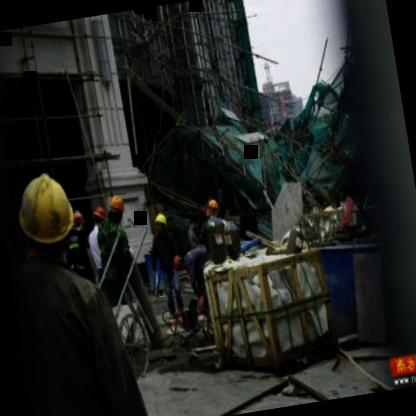helmet: (7, 170, 83, 264), (106, 192, 128, 226), (89, 196, 110, 230), (66, 203, 86, 234), (151, 209, 169, 234), (172, 250, 190, 275)
